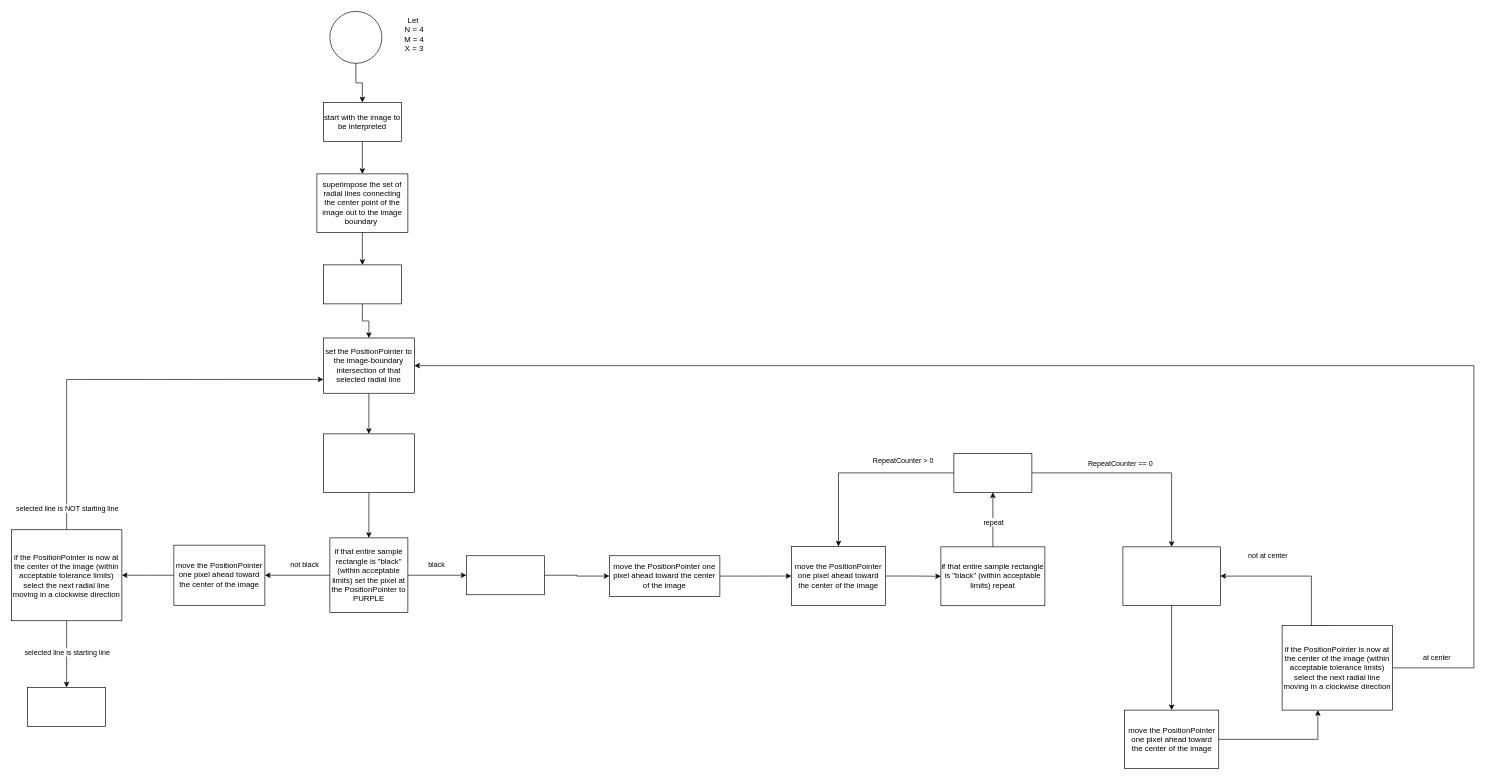
Some shapes in this 1490 by 780 pixel diagram are drawn without their labels. Here are the shapes that lost their labels. From the top down, the box of each, then its label:
(323, 264, 401, 304): select the 12 o'clock (staight down) radial line
(323, 433, 414, 492): read a sample rectangle of N x M pixels of color centered on the PositionPointer
(953, 453, 1032, 492): decrement the RepeatCounter
(466, 555, 544, 595): set a RepeatCounter to X
(1122, 546, 1220, 605): set the pixel at the PositionPointer to CHARTRUESE
(27, 687, 106, 726): if the selected line is the 12 radial line stop processing
